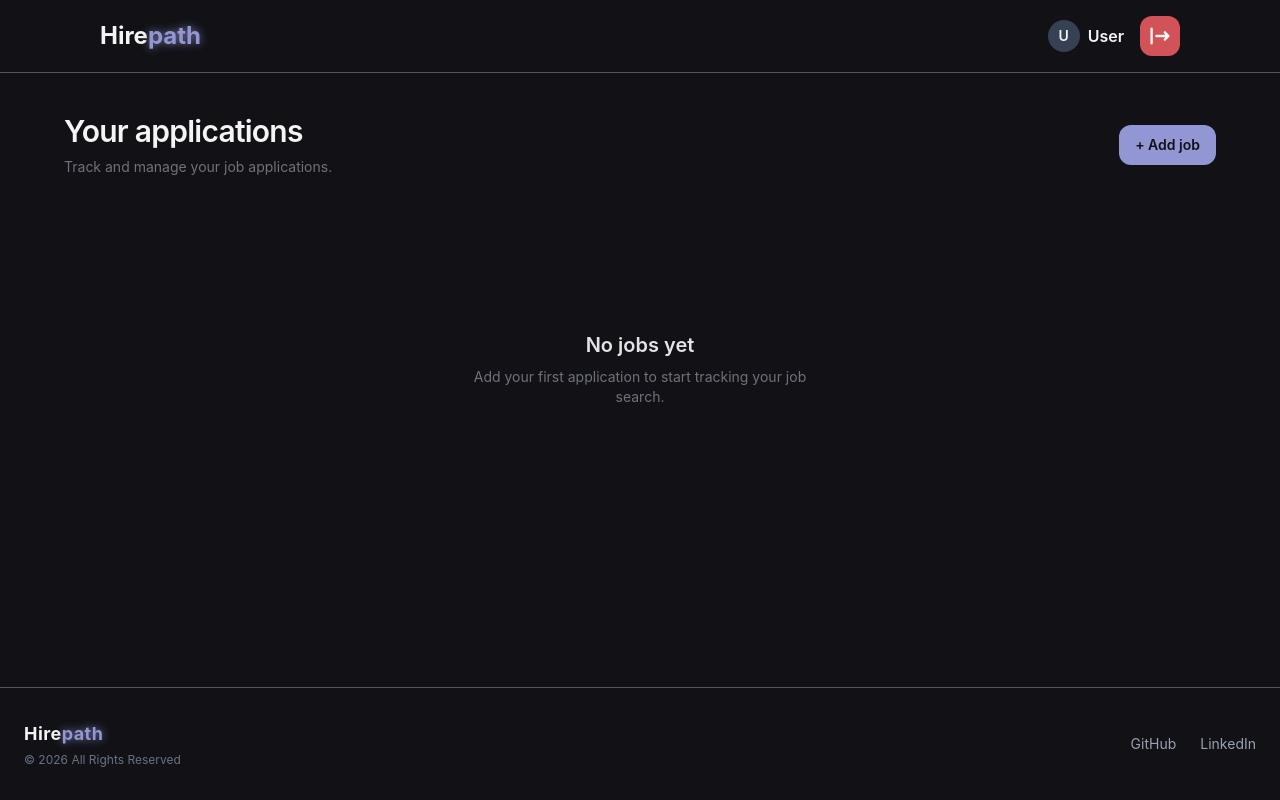
Test: DashboardPage › should show create error and keep modal open
This screenshot has width=1280, height=800.
expect the heading "No jobs yet" is shown: met, box [586,331,694,359]
Click the button "+ Add job" at (1168, 145), box [1119,125,1216,165]
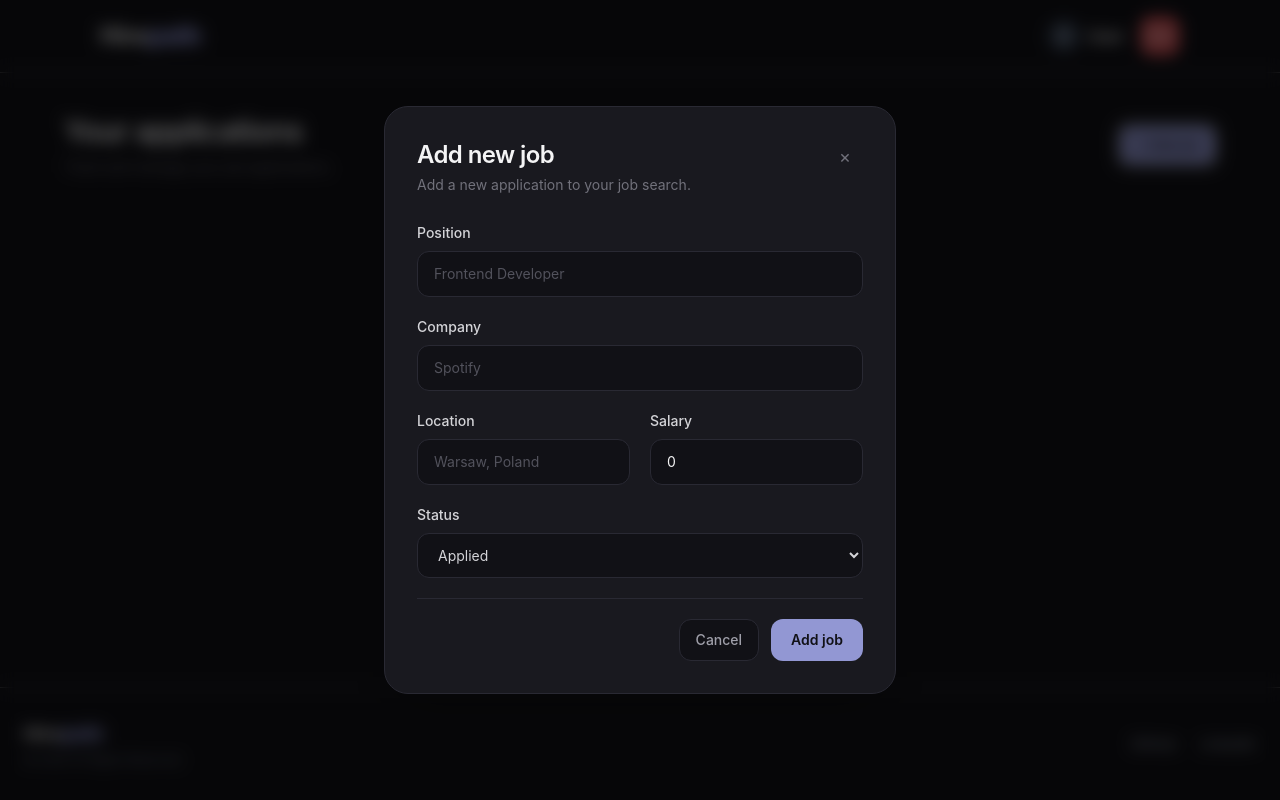
Type "React Developer" into the field labelled "Position" at (640, 274), box [417,251,863,297]
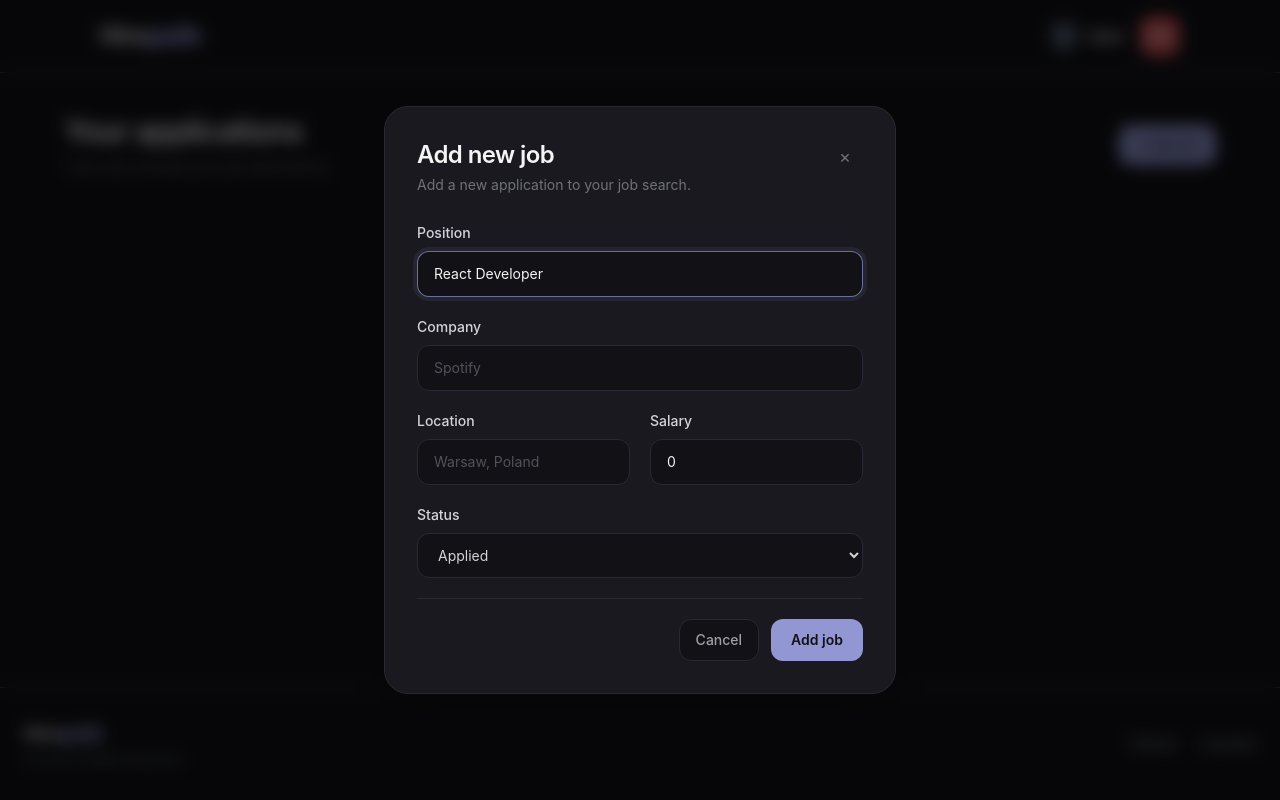
Type "Microsoft" into the field labelled "Company" at (640, 368), box [417,345,863,391]
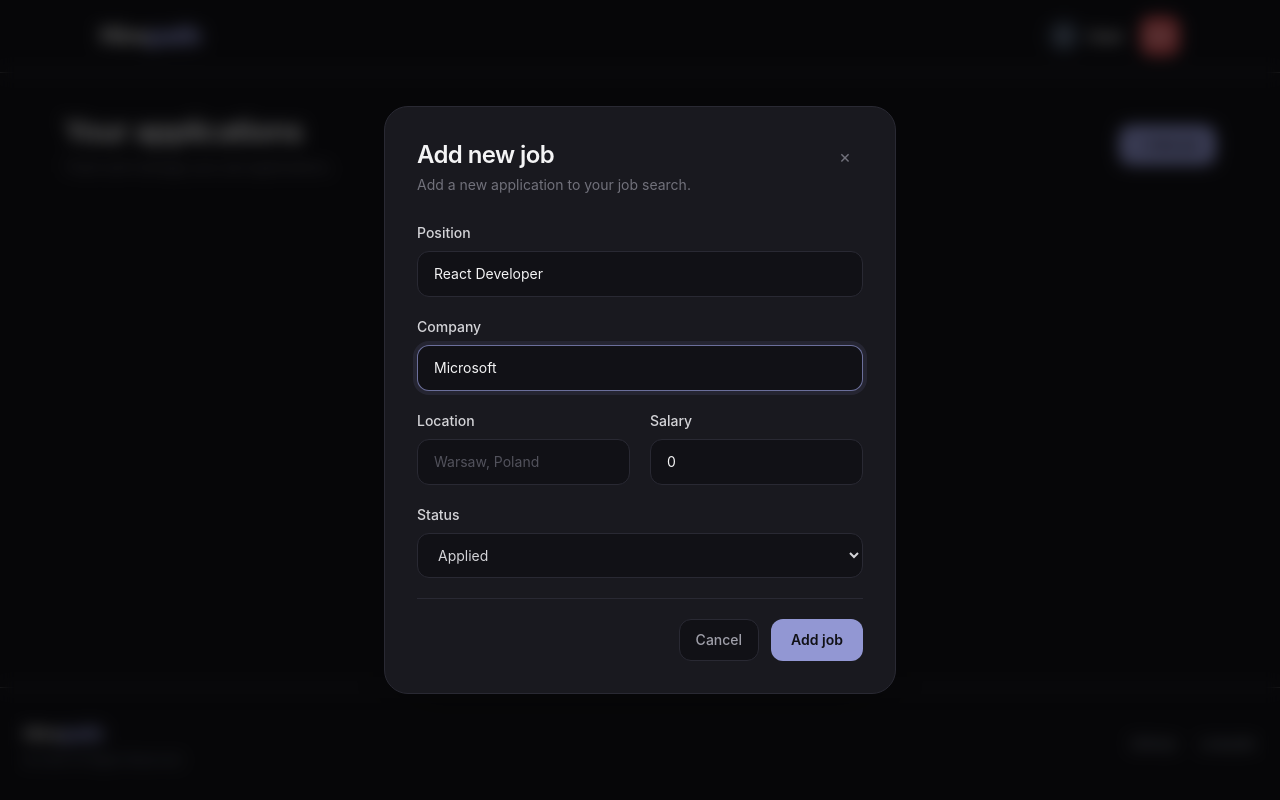
Type "Wroclaw" into the field labelled "Location" at (524, 462), box [417,439,630,485]
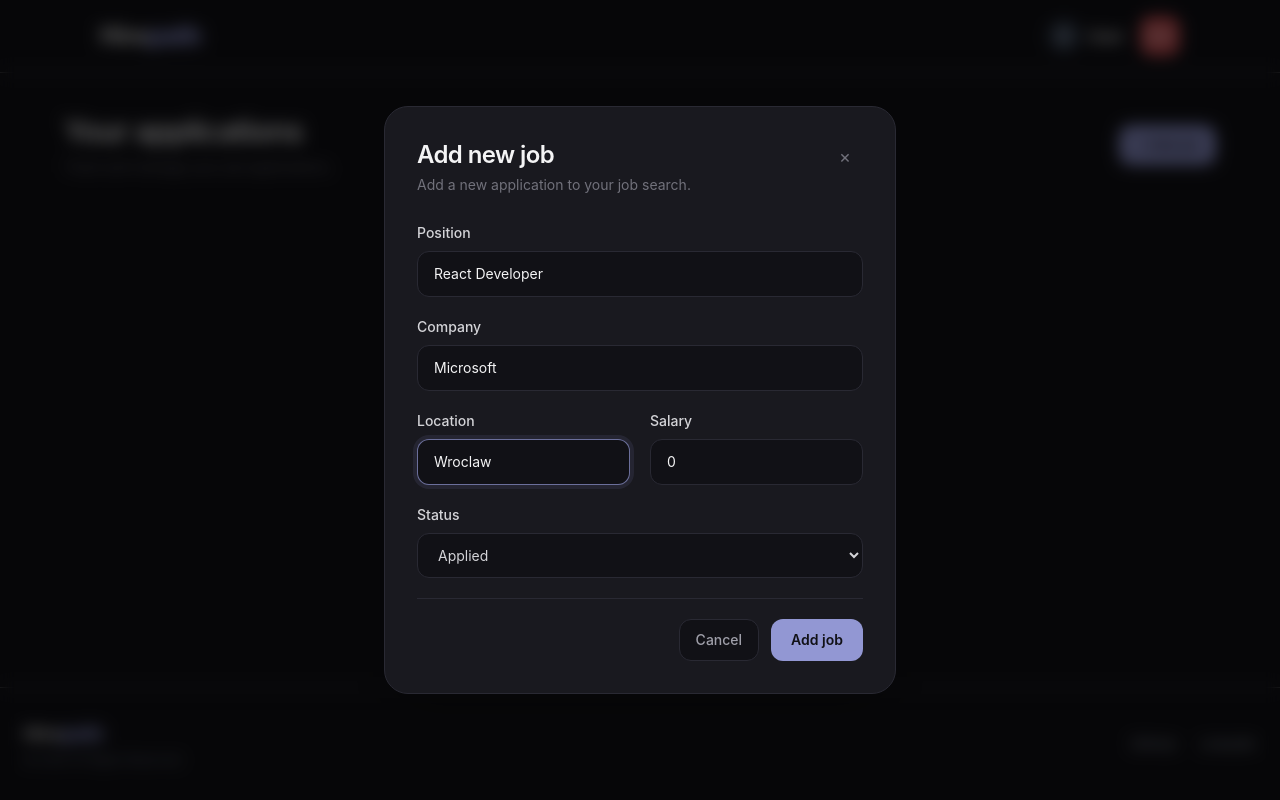
Replace the text in the number field labelled "Salary" with "3200" at (756, 462), box [650,439,863,485]
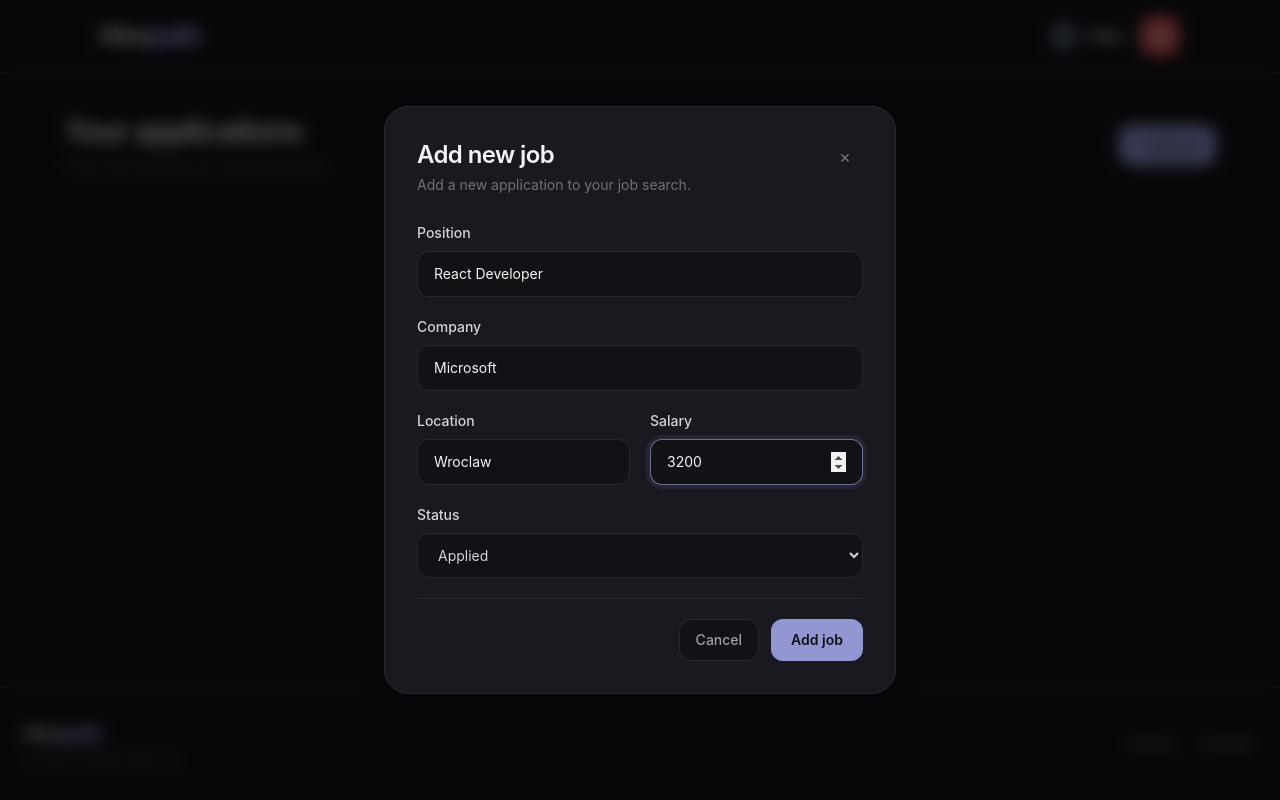
Click the button "Add job" at (817, 640), box [771,619,863,661]
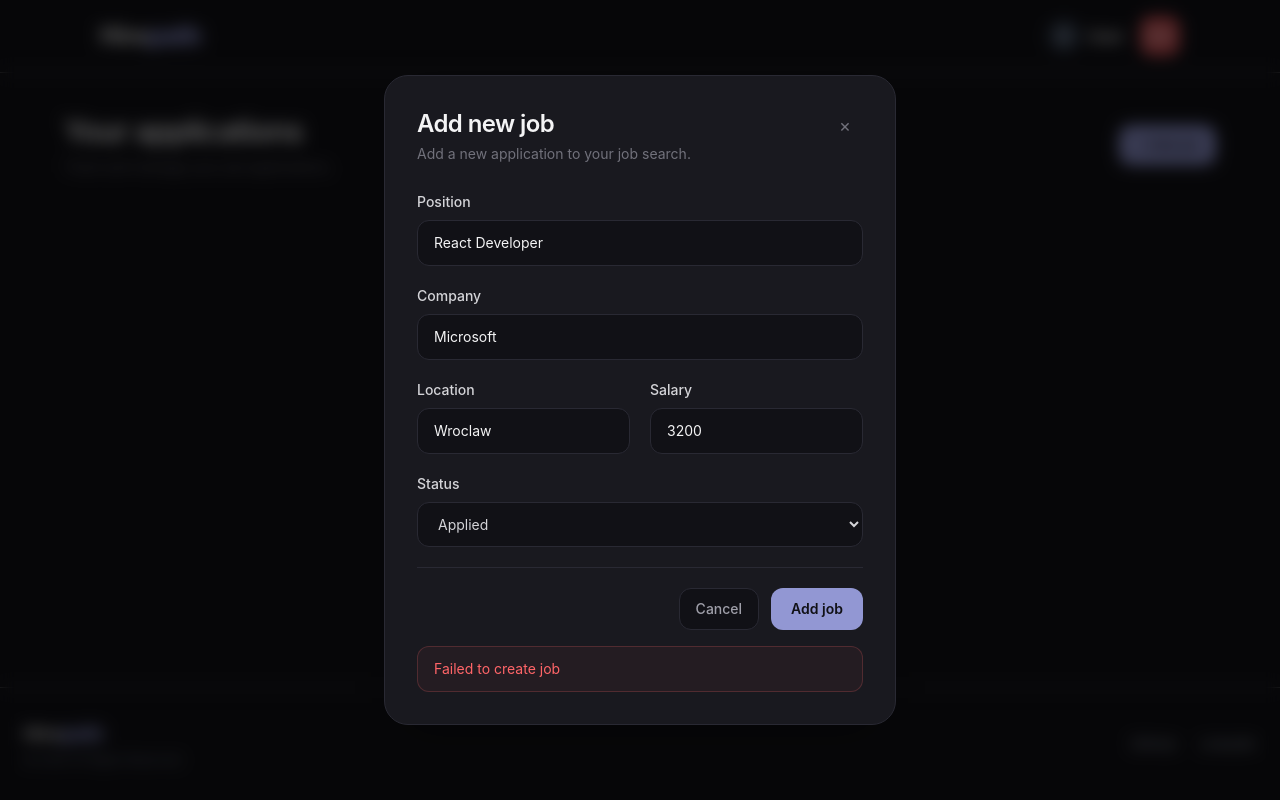
expect the heading "Add new job" is shown: met, box [417,109,554,138]
expect the text "Failed to create job" is shown: met, box [417,646,863,692]
